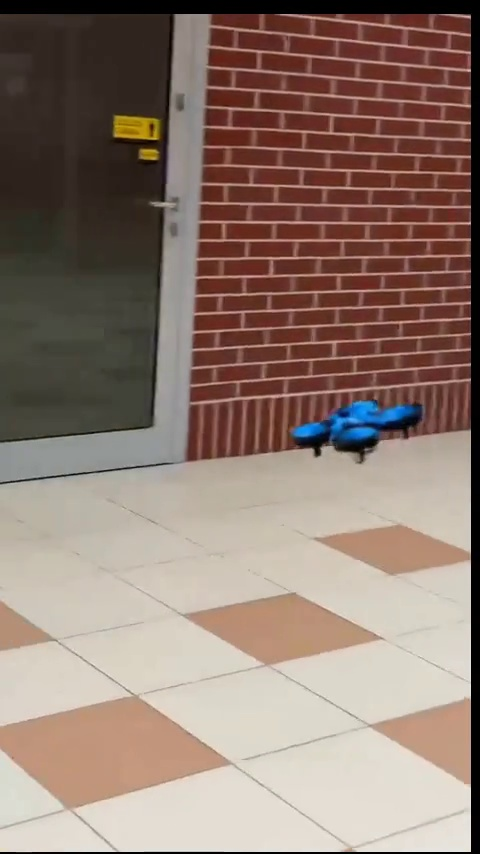drone: (287, 400, 422, 459)
